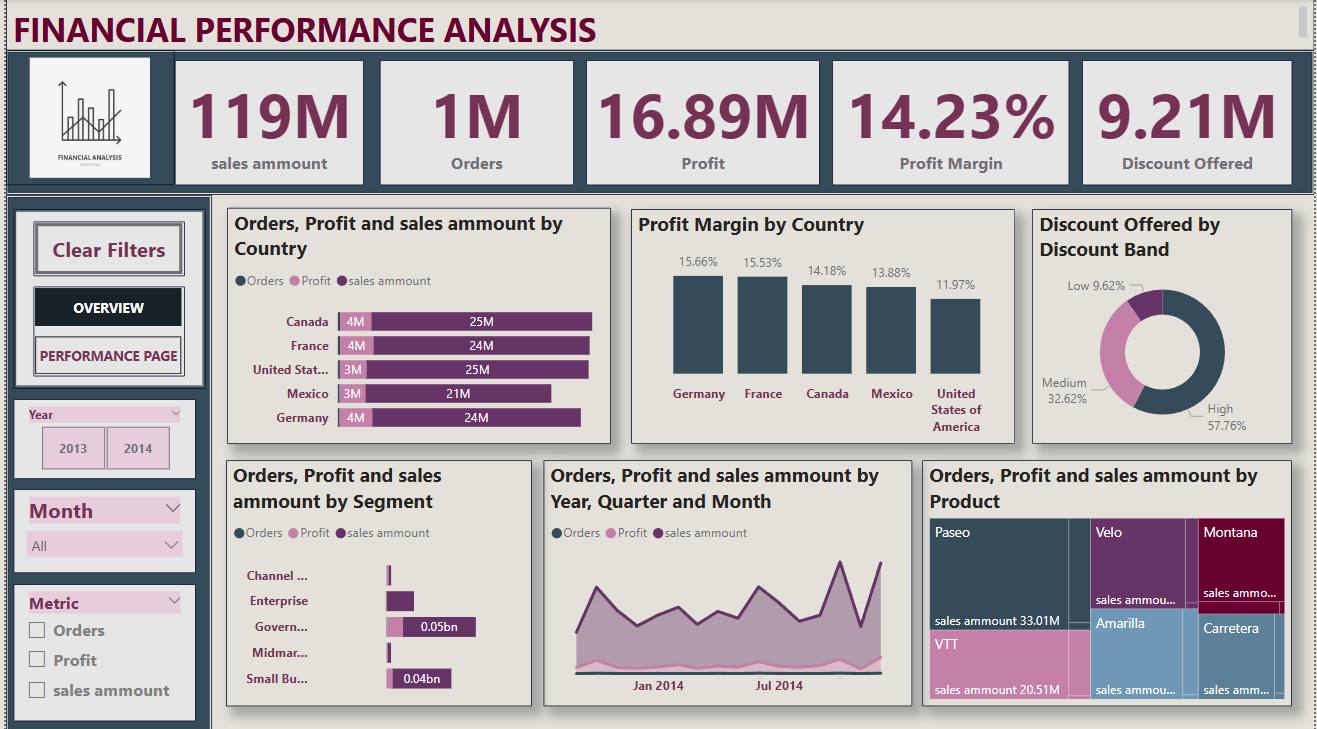

This screenshot's page, from the dashboard's own definition file:
{"tool":"powerbi","page":{"name":"OVERVIEW","canvas":[1280,720],"ordinal":0},"visuals":[{"type":"shape","box":[0,50.1,1280.3,141.8],"z":0},{"type":"shape","box":[0,192,201.8,528.3],"z":1000},{"type":"textbox","box":[0,0,1280.3,50.1],"z":2000},{"type":"card","fields":{"Values":["Measures (2).Orders"]},"box":[365.6,59.9,189.5,122.3],"z":3000},{"type":"card","fields":{"Values":["Measures (2).Profit"]},"box":[567.4,59.9,228.7,122.3],"z":4000},{"type":"card","fields":{"Values":["Measures (2).Profit Margin"]},"box":[808.3,59.9,232.3,122.3],"z":5000},{"type":"card","fields":{"Values":["Measures (2).Discount Offered"]},"box":[1052.9,59.9,205.4,122.3],"z":6000},{"type":"barChart","fields":{"Y":["Measures (2).Orders","Measures (2).Profit","Measures (2).sales ammount"],"Category":["financials (2).Country"]},"box":[216.4,204.2,375.4,231.1],"z":7000},{"type":"columnChart","fields":{"Category":["financials (2).Country"],"Y":["Measures (2).Profit Margin"]},"box":[611.4,205.4,375.4,229.9],"z":8000},{"type":"barChart","fields":{"Y":["Measures (2).Orders","Measures (2).Profit","Measures (2).sales ammount"],"Category":["financials (2).Segment"]},"box":[215.2,451.2,299.6,240.9],"z":9000},{"type":"stackedAreaChart","fields":{"Y":["Measures (2).Orders","Measures (2).Profit","Measures (2).sales ammount"],"Category":["calender(finanacial).Date.Variation.Date Hierarchy.Year","calender(finanacial).Date.Variation.Date Hierarchy.Quarter","calender(finanacial).Date.Variation.Date Hierarchy.Month"]},"box":[525.8,451.2,360.7,240.9],"z":10000},{"type":"donutChart","fields":{"Category":["financials (2).Discount Band"],"Y":["Measures (2).Discount Offered"]},"box":[1003.9,205.4,254.3,229.9],"z":11000},{"type":"treemap","fields":{"Values":["Measures (2).Orders","Measures (2).Profit","Measures (2).sales ammount"],"Group":["financials (2).Product"]},"box":[896.3,451.2,362,240.9],"z":12000},{"type":"card","fields":{"Values":["Measures (2).sales ammount"]},"box":[165.1,59.9,184.6,122.3],"z":13000},{"type":"shape","box":[7.3,205.4,188.3,176.1],"z":14000},{"type":"slicer","fields":{"Values":["calender(finanacial).Date.Variation.Date Hierarchy.Year"]},"box":[6.9,391.1,178.4,78.2],"z":15000},{"type":"image","box":[0,50.1,165.1,132.1],"z":16000},{"type":"actionButton","box":[26.9,217.7,148,53.8],"z":17000},{"type":"slicer","fields":{"Values":["calender(finanacial).Date.Variation.Date Hierarchy.Month"]},"box":[6.9,478.9,178.4,82.3],"z":18000},{"type":"pageNavigator","box":[26.9,281.3,148,88],"z":19000},{"type":"slicer","fields":{"Values":["Metric.Metric"]},"box":[6.9,572.2,178.4,134.5],"z":20000}]}

Visuals, with their boxes in screenshot pixels (x1, y1, x2, y2), scaled from the page's 1280x720 canvas onto the 1317x729 screenshot:
shape: {"left": 0, "top": 51, "right": 1316, "bottom": 194}
shape: {"left": 0, "top": 194, "right": 208, "bottom": 728}
textbox: {"left": 0, "top": 0, "right": 1316, "bottom": 51}
card - Measures (2).Orders: {"left": 376, "top": 61, "right": 571, "bottom": 184}
card - Measures (2).Profit: {"left": 584, "top": 61, "right": 819, "bottom": 184}
card - Measures (2).Profit Margin: {"left": 832, "top": 61, "right": 1071, "bottom": 184}
card - Measures (2).Discount Offered: {"left": 1083, "top": 61, "right": 1295, "bottom": 184}
barChart - Measures (2).Orders x Measures (2).Profit: {"left": 223, "top": 207, "right": 609, "bottom": 441}
columnChart - financials (2).Country x Measures (2).Profit Margin: {"left": 629, "top": 208, "right": 1015, "bottom": 441}
barChart - Measures (2).Orders x Measures (2).Profit: {"left": 221, "top": 457, "right": 530, "bottom": 701}
stackedAreaChart - Measures (2).Orders x Measures (2).Profit: {"left": 541, "top": 457, "right": 912, "bottom": 701}
donutChart - financials (2).Discount Band x Measures (2).Discount Offered: {"left": 1033, "top": 208, "right": 1295, "bottom": 441}
treemap - Measures (2).Orders x Measures (2).Profit: {"left": 922, "top": 457, "right": 1295, "bottom": 701}
card - Measures (2).sales ammount: {"left": 170, "top": 61, "right": 360, "bottom": 184}
shape: {"left": 8, "top": 208, "right": 201, "bottom": 386}
slicer - calender(finanacial).Date.Variation.Date Hierarchy.Year: {"left": 7, "top": 396, "right": 191, "bottom": 475}
image: {"left": 0, "top": 51, "right": 170, "bottom": 184}
actionButton: {"left": 28, "top": 220, "right": 180, "bottom": 275}
slicer - calender(finanacial).Date.Variation.Date Hierarchy.Month: {"left": 7, "top": 485, "right": 191, "bottom": 568}
pageNavigator: {"left": 28, "top": 285, "right": 180, "bottom": 374}
slicer - Metric.Metric: {"left": 7, "top": 579, "right": 191, "bottom": 716}
